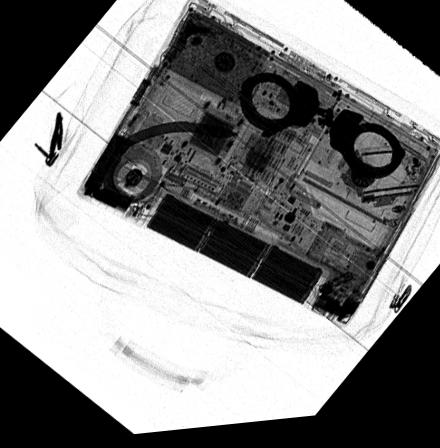HandCuffs: (239, 76, 407, 186)
